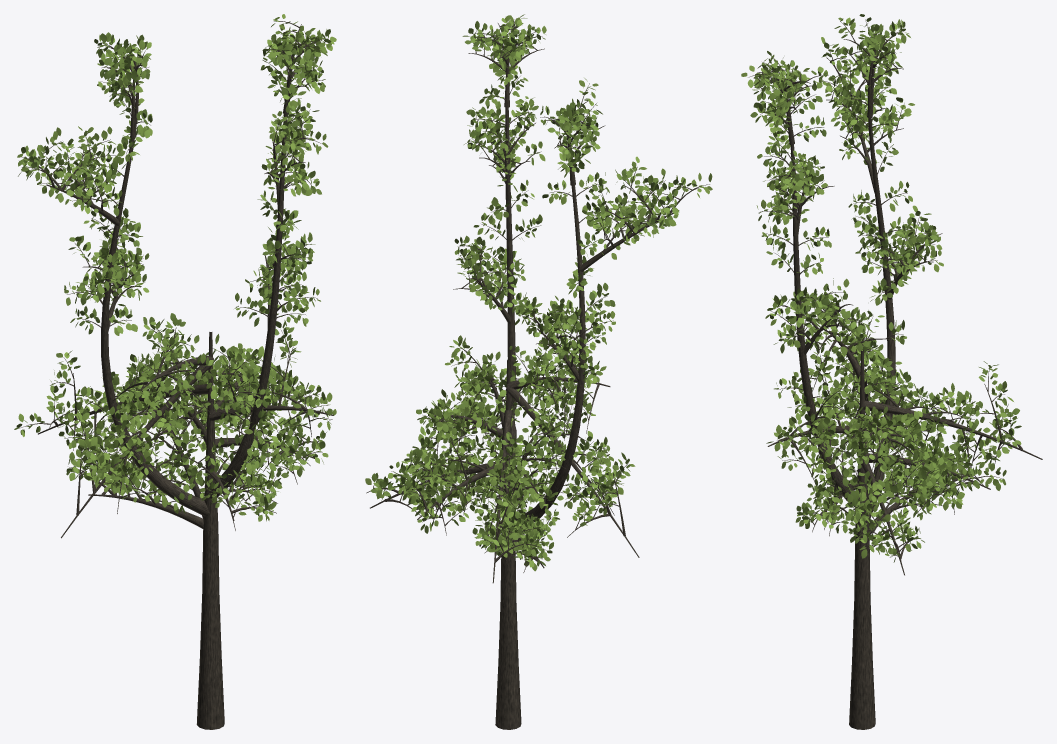
File: open_04_native_base_T016717_lod0.glb
3 views of the same model, side by side, from view 1: azimuth 30°, elevation 25°; view 2: azimuth 150°, elevation 25°; view 3: azimuth 270°, elevation 25° (orthographic). The views are drawn at different scales.
Visible parts, largest first — view 1: individual_folded_leaves, trunk_branches, native_lower_trunk_extension; view 2: individual_folded_leaves, trunk_branches, native_lower_trunk_extension; view 3: individual_folded_leaves, trunk_branches, native_lower_trunk_extension.
Boxes of the visible parts, x1=… form: individual_folded_leaves: x1=14, y1=14, x2=336, y2=521; trunk_branches: x1=19, y1=21, x2=333, y2=538; native_lower_trunk_extension: x1=196, y1=528, x2=224, y2=729; individual_folded_leaves: x1=365, y1=14, x2=712, y2=571; trunk_branches: x1=366, y1=18, x2=709, y2=583; native_lower_trunk_extension: x1=495, y1=544, x2=521, y2=729; individual_folded_leaves: x1=741, y1=14, x2=1021, y2=562; trunk_branches: x1=748, y1=19, x2=1042, y2=575; native_lower_trunk_extension: x1=849, y1=539, x2=875, y2=729.
Size of the model in its own units: 7.85 by 15.76 by 6.34.
Materials: 2 (1 with a texture image).
